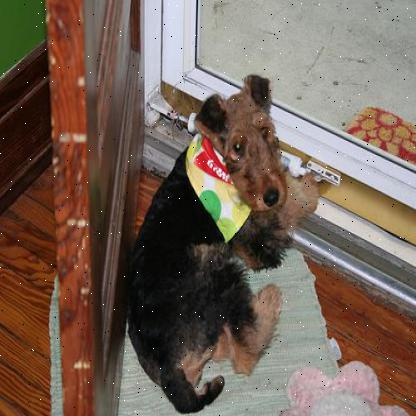dog: (136, 67, 318, 403)
